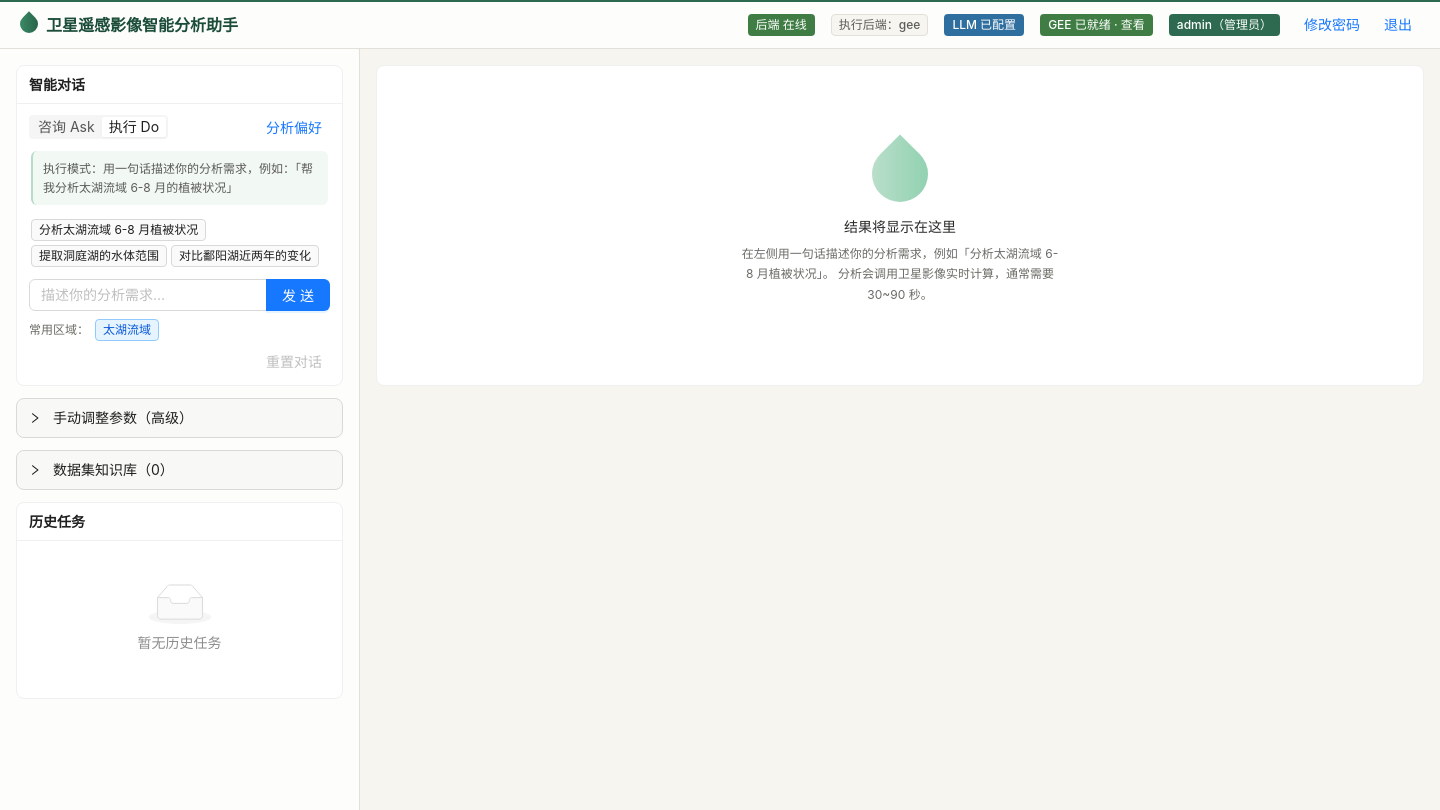
App · F7 登出必须清空上一位用户的对话 › 退出后重新登录，看不到上一位用户的提问与回答
Click the text "分析太湖流域 6-8 月植被状况": (119, 230) [31,219,206,241]
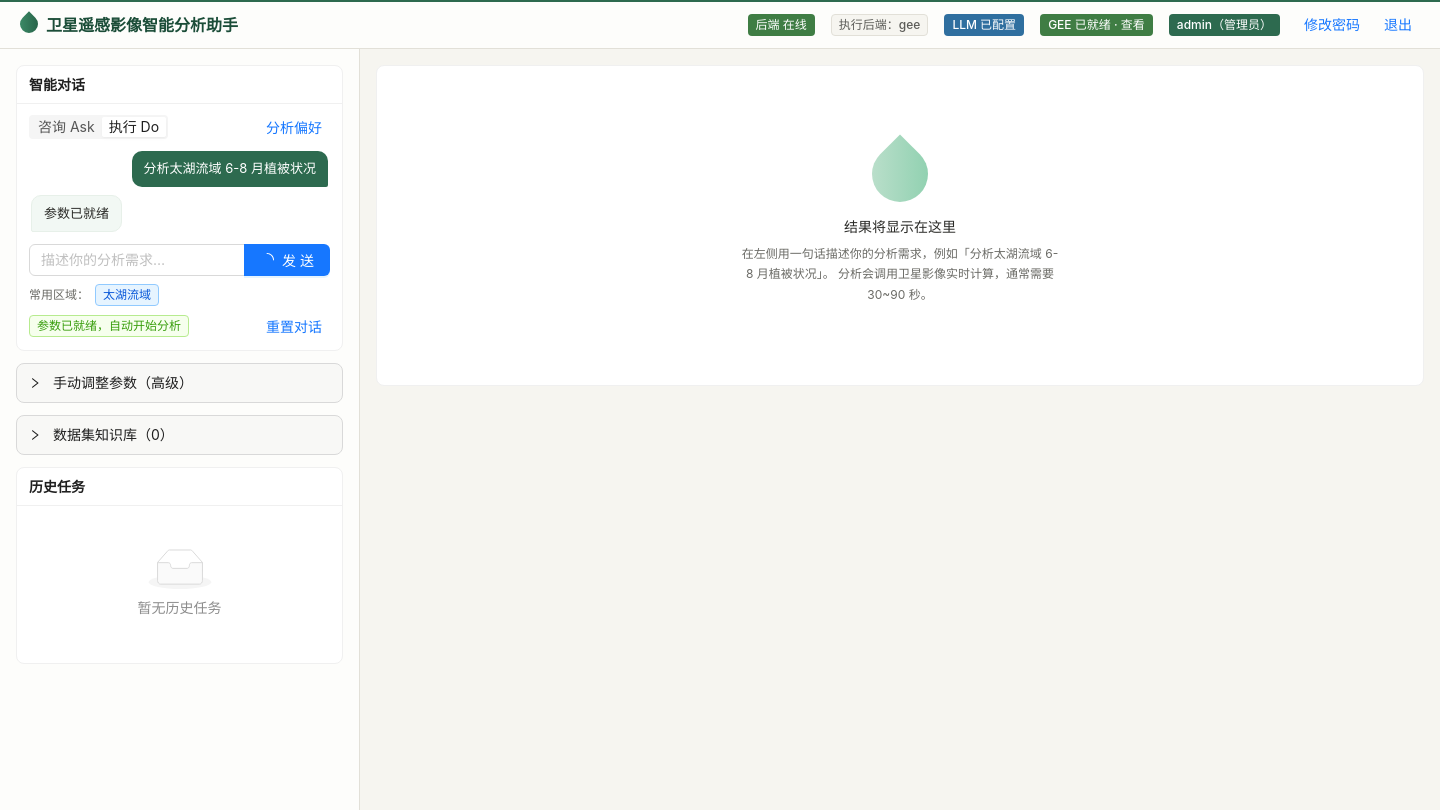
Check: the number of elements with class "user" is 1, box [132,151,328,186]
Check: the text "参数已就绪" is shown, box [31,194,122,232]
Click the button "退出": (1398, 24) [1376,12,1420,36]
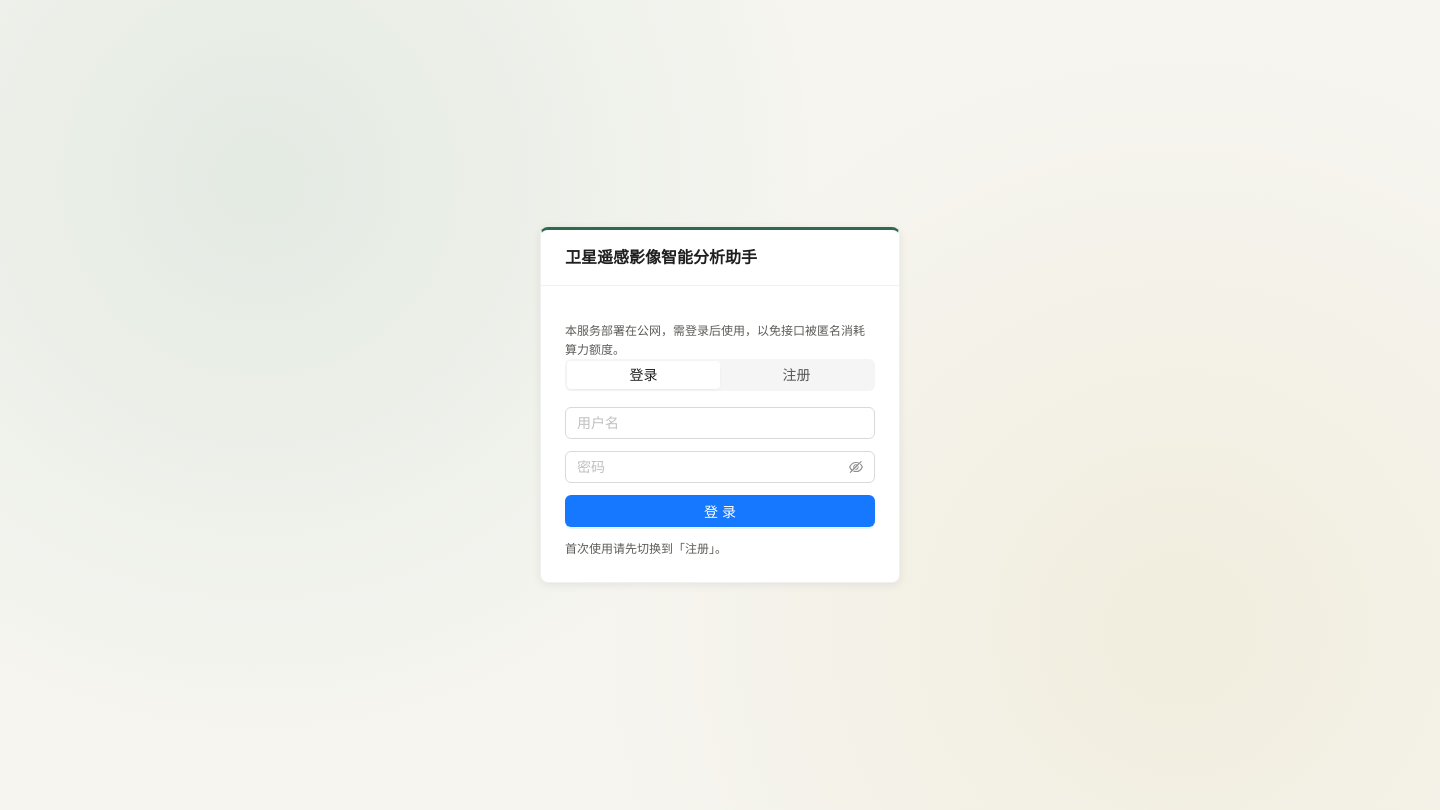
In the field with placeholder "用户名": (720, 423) [565,407,875,439], type "other"
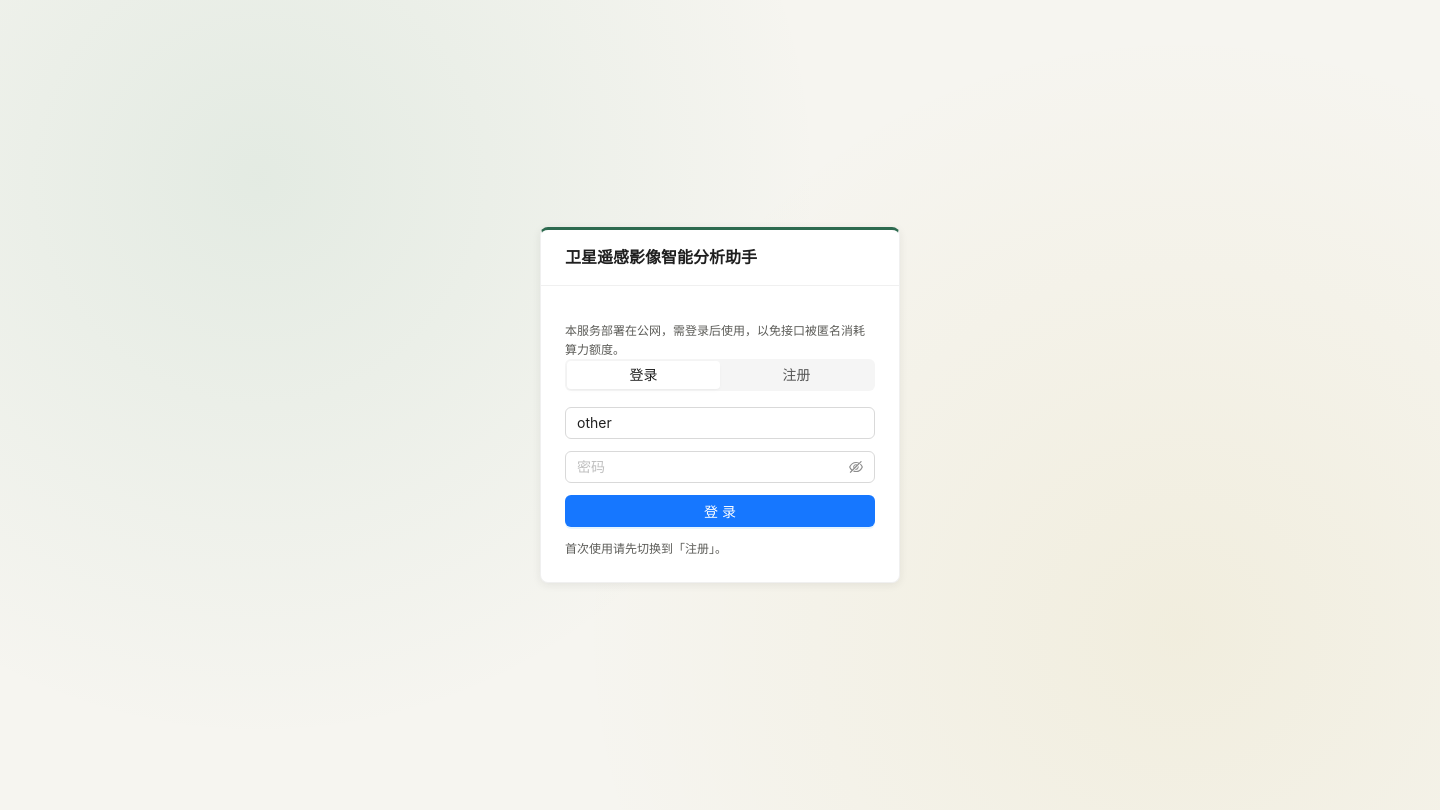
In the password field with placeholder "密码": (711, 467) [577,456,845,478], type "pw12345678"
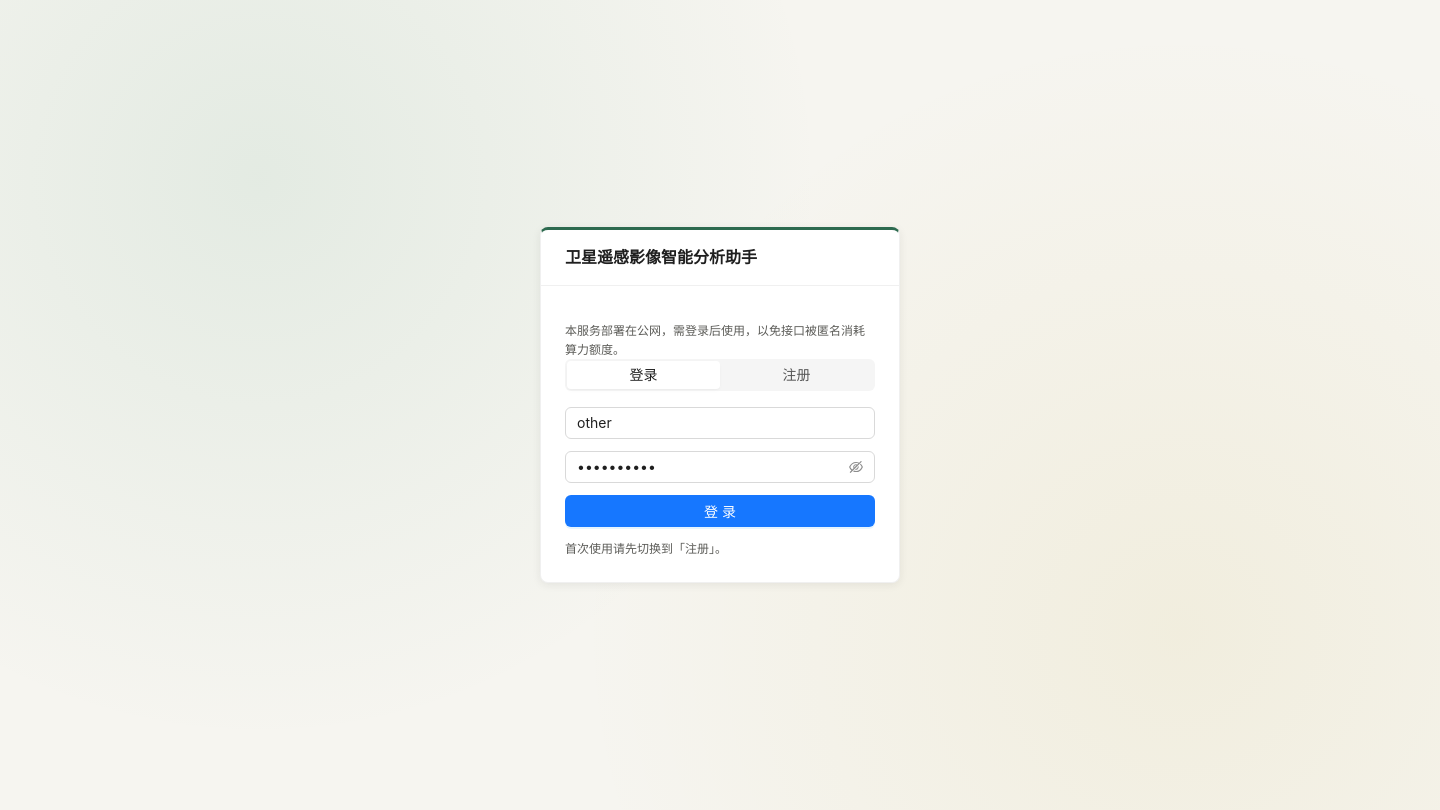
Click the button "登 录": (720, 511) [565,495,875,527]
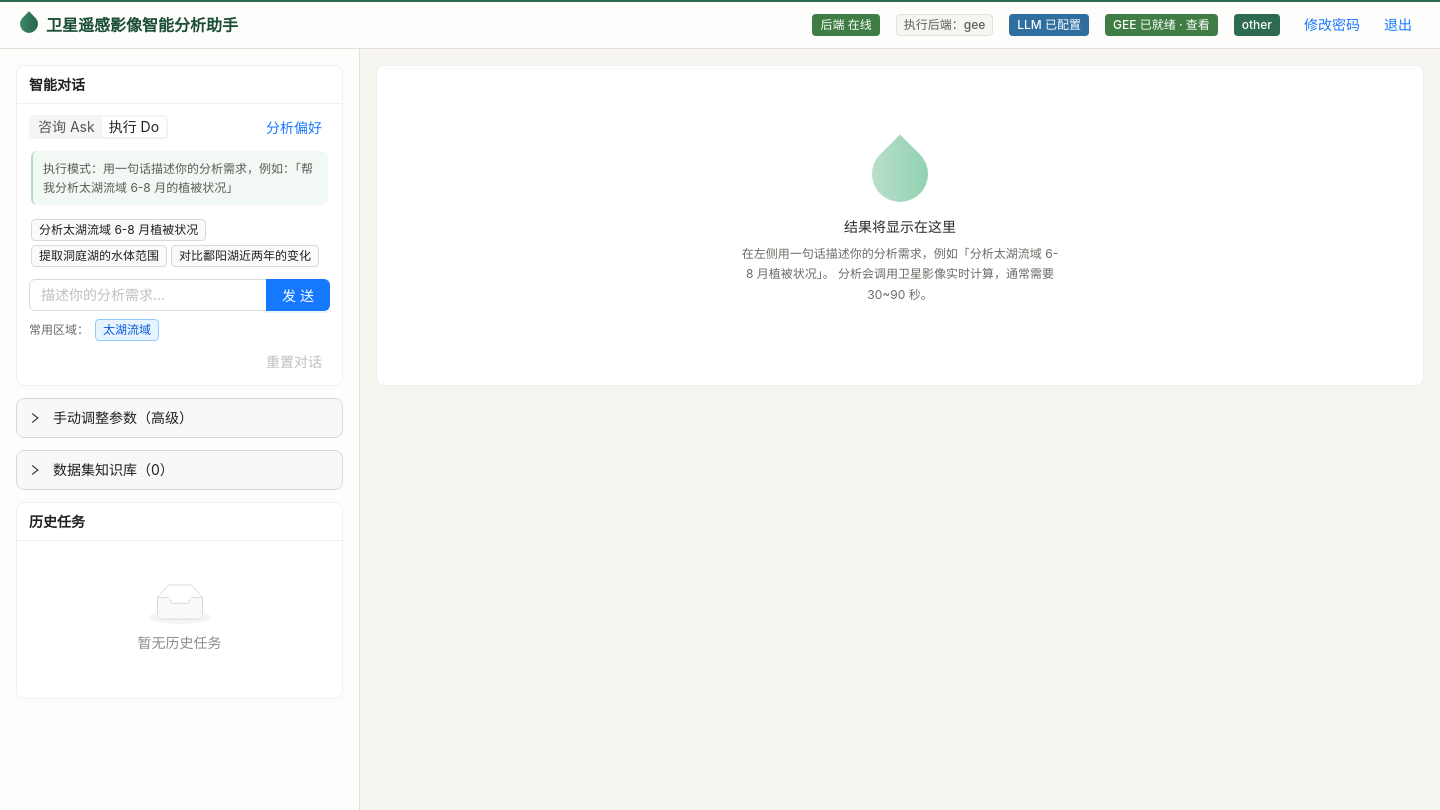
Check: the text "卫星遥感影像智能分析助手" is shown, box [20,12,238,36]
Check: the number of elements with class "example-tag" is 3, box [31,219,206,241]; [31,245,167,267]; [171,245,319,267]
